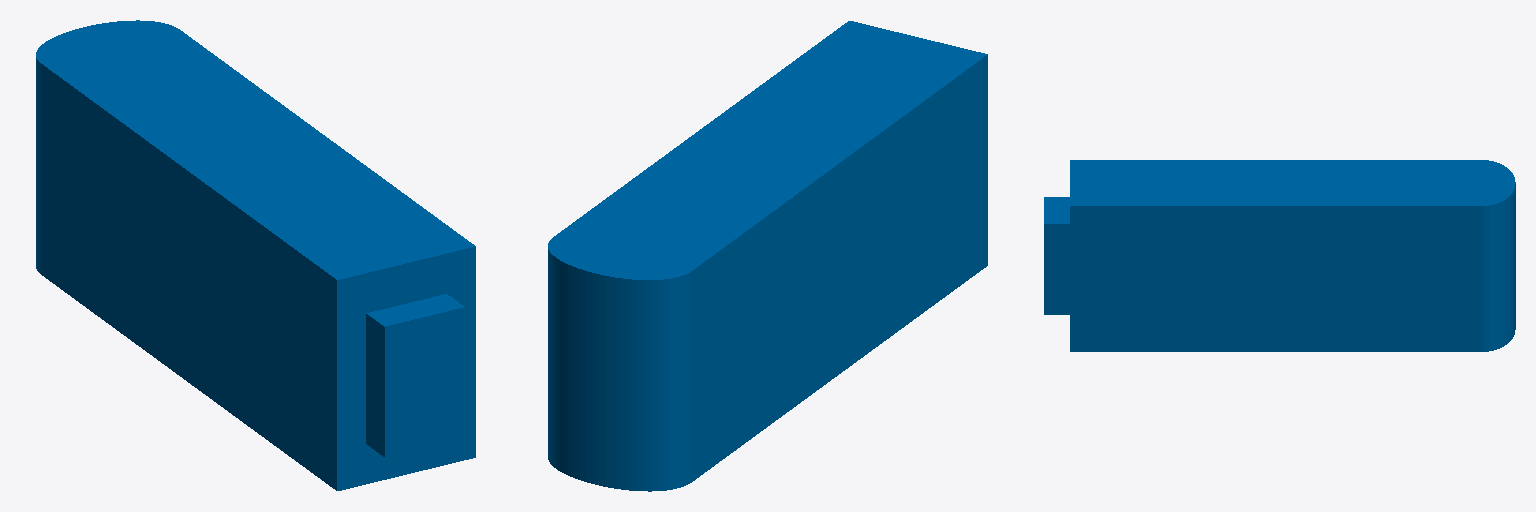
The robot description file, URDF, robot "2v2_35.65_35.65_1.1_63":
<?xml version="1.0" ?>
<robot name="2v2_35.65_35.65_1.1_63">

    <link name="palm">
        <visual>
            <origin rpy="0 0 0" xyz="0 0 0"/>
            <geometry>
                <mesh filename="obj_files/palm.obj" scale="1 1 1"/>
            </geometry>
        </visual>
        <collision>
            <geometry>
                <mesh filename="obj_files/palm_collision.obj" scale="1 1 1"/>
            </geometry>
        </collision>
    </link>

    <link name="finger0_segment0">
        <visual>
            <origin rpy="0 0 0" xyz="0 0 0"/>
            <geometry>
                <mesh filename="obj_files/finger0_segment0.obj" scale="1 1 1"/>
            </geometry>
        </visual>
        <collision>
            <geometry>
                <mesh filename="obj_files/finger0_segment0_collision.obj" scale="1 1 1"/>
            </geometry>
        </collision>
    </link>

    <joint name="finger0_segment0_joint" type="revolute">
        <parent link="palm"/>
        <child link="finger0_segment0"/>
        <origin rpy="0 0 0" xyz="0.03175 0 0.0"/>
        <axis xyz="0 0 1"/>
        <limit effort="1000.0" lower="-3.14" upper="3.14" velocity="0.5"/>
    </joint>

    <link name="finger0_segment1">
        <visual>
            <origin rpy="0 0 0" xyz="0 0 0"/>
            <geometry>
                <mesh filename="obj_files/finger0_segment1.obj" scale="1 1 1"/>
            </geometry>
        </visual>
        <collision>
            <geometry>
                <mesh filename="obj_files/finger0_segment1_collision.obj" scale="1 1 1"/>
            </geometry>
        </collision>
    </link>

    <joint name="finger0_segment1_joint" type="revolute">
        <parent link="finger0_segment0"/>
        <child link="finger0_segment1"/>
        <origin rpy="0 0 0" xyz="0 0.0504 0"/>
        <axis xyz="0 0 1"/>
        <limit effort="1000.0" lower="-3.14" upper="3.14" velocity="0.5"/>
    </joint>

    <link name="finger1_segment0">
        <visual>
            <origin rpy="0 0 0" xyz="0 0 0"/>
            <geometry>
                <mesh filename="obj_files/finger1_segment0.obj" scale="1 1 1"/>
            </geometry>
        </visual>
        <collision>
            <geometry>
                <mesh filename="obj_files/finger1_segment0_collision.obj" scale="1 1 1"/>
            </geometry>
        </collision>
    </link>

    <joint name="finger1_segment0_joint" type="revolute">
        <parent link="palm"/>
        <child link="finger1_segment0"/>
        <origin rpy="0 0 0" xyz="-0.03175 0 3.888253587292846e-18"/>
        <axis xyz="0 0 1"/>
        <limit effort="1000.0" lower="-3.14" upper="3.14" velocity="0.5"/>
    </joint>

    <link name="finger1_segment1">
        <visual>
            <origin rpy="0 0 0" xyz="0 0 0"/>
            <geometry>
                <mesh filename="obj_files/finger1_segment1.obj" scale="1 1 1"/>
            </geometry>
        </visual>
        <collision>
            <geometry>
                <mesh filename="obj_files/finger1_segment1_collision.obj" scale="1 1 1"/>
            </geometry>
        </collision>
    </link>

    <joint name="finger1_segment1_joint" type="revolute">
        <parent link="finger1_segment0"/>
        <child link="finger1_segment1"/>
        <origin rpy="0 0 0" xyz="0 0.0504 0"/>
        <axis xyz="0 0 1"/>
        <limit effort="1000.0" lower="-3.14" upper="3.14" velocity="0.5"/>
    </joint>

</robot>

--- What the picture shows (computed from the rendered views, not written in the file) ---
The picture shows the robot from 3 angles, left to right: view 1: azimuth 30°, elevation 25°; view 2: azimuth 150°, elevation 25°; view 3: azimuth 270°, elevation 25°; orthographic projection.
Model 2v2_35.65_35.65_1.1_63 with 5 links and 4 joints (4 revolute), rooted at palm, posed every joint at zero.
Links seen in each view (by area): view 1: finger1_segment1; view 2: finger1_segment1; view 3: finger1_segment1.
Boxes of the visible links, x1,y1,x2,y2 form: finger1_segment1: (36,20,475,490); finger1_segment1: (548,21,987,491); finger1_segment1: (1044,160,1515,351).
Size in the robot's own frame: 0.022 by 0.0936 by 0.032 metres.
Meshes: 5 distinct files referenced, 1 mesh visuals loaded (1 OBJ); not drawn: 4 (reference not matched to a file when rendering).